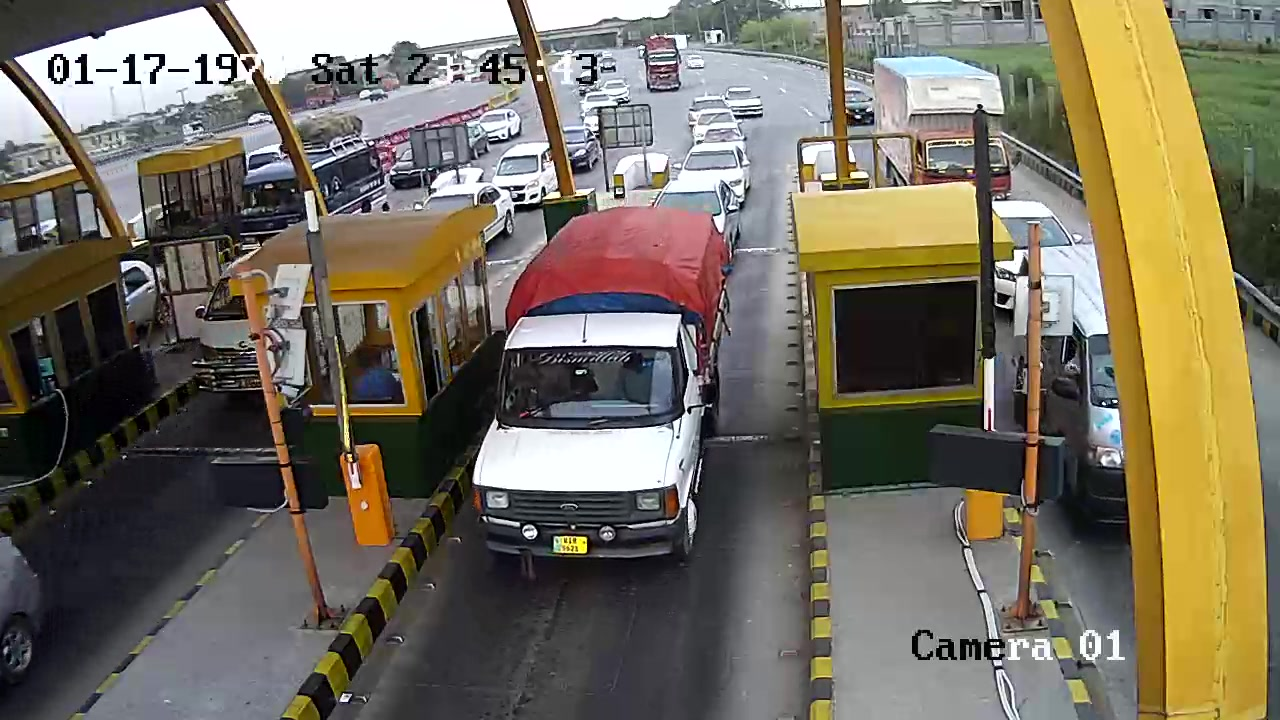F2: (460, 203, 753, 585)
